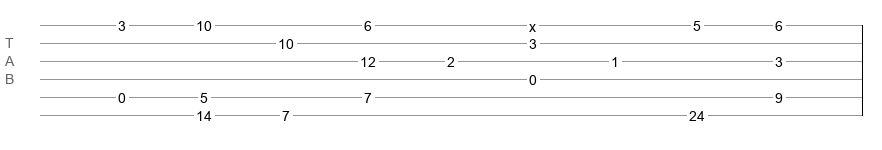0: (118, 90, 126, 100), (529, 72, 537, 82)
1: (611, 54, 619, 64)
10: (196, 18, 212, 28), (278, 36, 294, 46)
12: (360, 54, 376, 64)
14: (196, 108, 212, 118)
2: (447, 54, 455, 64)
24: (689, 108, 705, 118)
3: (118, 18, 126, 28), (529, 36, 537, 46), (775, 54, 783, 64)
5: (200, 90, 208, 100), (693, 18, 701, 28)
6: (364, 18, 372, 28), (775, 18, 783, 28)
7: (282, 108, 290, 118), (364, 90, 372, 100)
9: (775, 90, 783, 100)
x: (529, 19, 536, 27)
